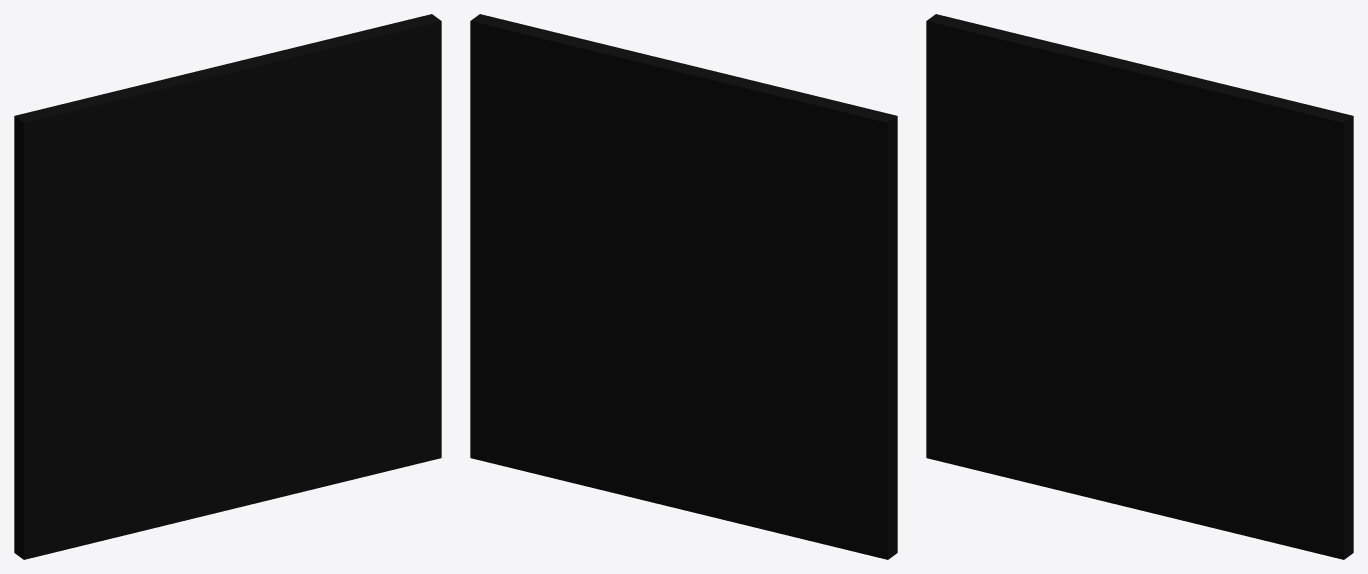
Rendered from floor.obj.
3 views of the same model, side by side, from view 1: azimuth 30°, elevation 25°; view 2: azimuth 150°, elevation 25°; view 3: azimuth 330°, elevation 25° (orthographic).
Size of the model in its own units: 1 by 1 by 0.04.
Materials: 1 (1 with a texture image).
